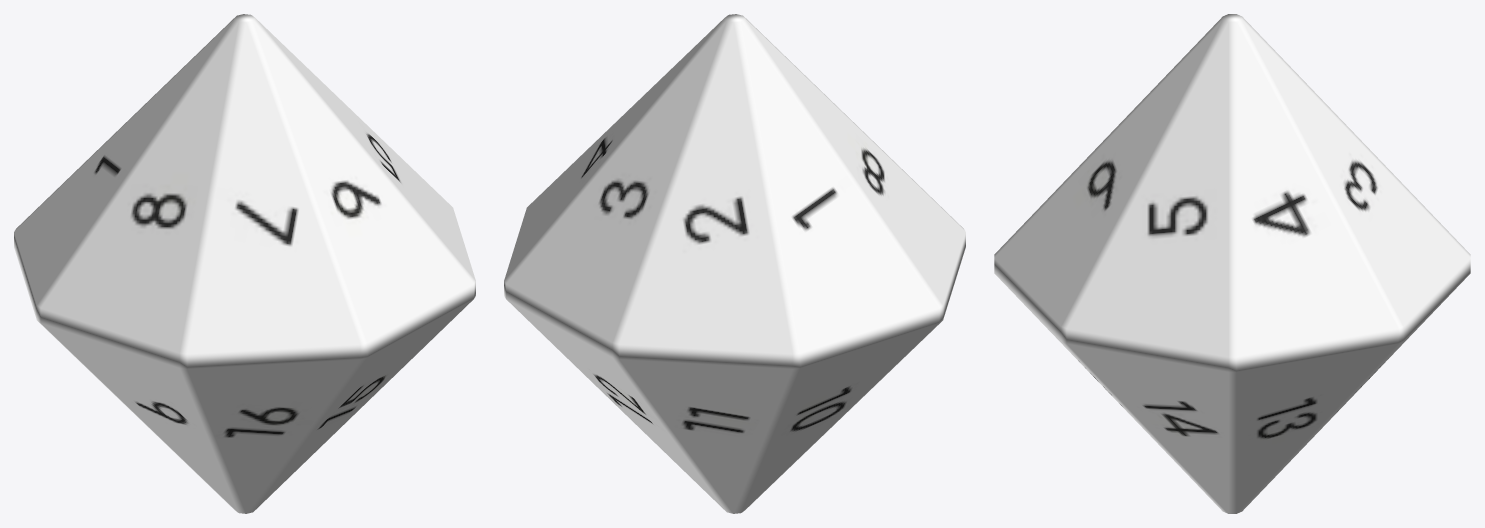
3 views of the same model, side by side, from view 1: azimuth 30°, elevation 25°; view 2: azimuth 150°, elevation 25°; view 3: azimuth 270°, elevation 25° (orthographic).
Parts seen in each view (by area): view 1: D16; view 2: D16; view 3: D16.
Part boxes in pixels (bbox=[...]): D16: bbox=[14, 14, 475, 513]; D16: bbox=[504, 14, 965, 513]; D16: bbox=[994, 14, 1470, 513].
Bounding box in the file's own units: 0.0269 × 0.0307 × 0.0269.
Materials: 1 (1 with a texture image).
